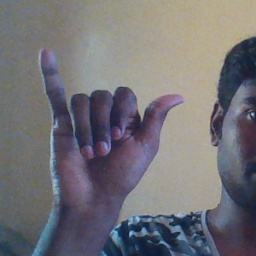J: (33, 45, 187, 207)
